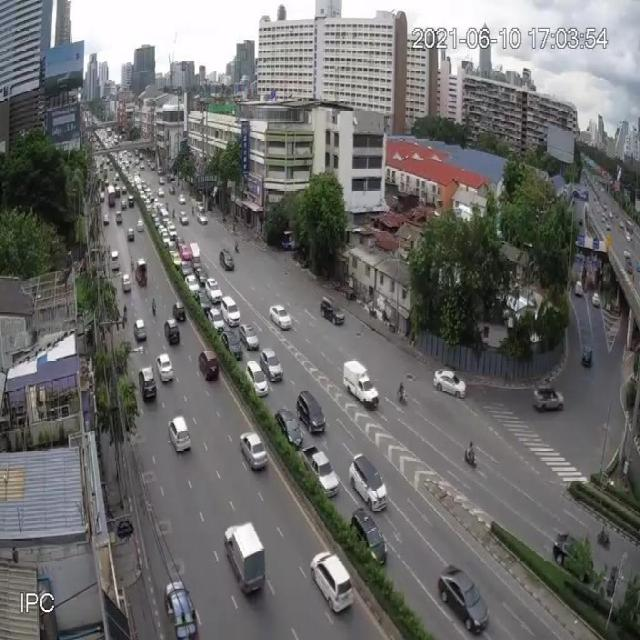Car: (437, 564, 489, 634), (310, 551, 352, 615), (348, 452, 388, 511), (349, 508, 386, 567), (164, 580, 199, 639), (302, 445, 340, 498), (552, 532, 592, 576), (296, 389, 326, 433), (275, 406, 303, 447), (240, 431, 268, 471), (433, 368, 468, 400), (533, 382, 565, 412), (168, 414, 191, 455), (259, 346, 283, 382), (246, 360, 269, 397), (320, 296, 346, 326), (220, 328, 242, 360), (198, 349, 220, 381), (138, 365, 156, 402), (221, 295, 240, 327), (269, 305, 292, 331), (239, 323, 260, 351), (156, 353, 174, 383), (205, 278, 223, 305), (207, 306, 224, 333), (164, 317, 180, 345), (198, 286, 214, 312), (185, 276, 200, 299), (133, 318, 147, 342), (220, 248, 234, 270), (172, 302, 186, 324), (194, 266, 208, 286), (179, 243, 193, 263), (581, 347, 593, 367), (180, 260, 192, 278), (196, 210, 208, 225), (172, 252, 182, 270), (122, 273, 131, 292), (168, 223, 177, 241), (162, 232, 171, 249), (111, 249, 119, 266), (179, 212, 189, 225), (127, 227, 135, 241), (136, 218, 144, 231), (178, 194, 186, 205), (116, 210, 122, 224), (103, 213, 109, 226), (121, 196, 127, 208), (128, 194, 134, 206), (167, 174, 175, 182), (100, 190, 105, 202), (169, 184, 175, 194), (158, 177, 165, 185), (158, 190, 165, 198), (158, 167, 164, 176), (140, 162, 144, 170)
Cycle: (465, 439, 475, 468), (397, 381, 407, 403), (151, 297, 157, 316), (235, 238, 239, 254)
Truck: (225, 522, 266, 596), (344, 360, 381, 411)
